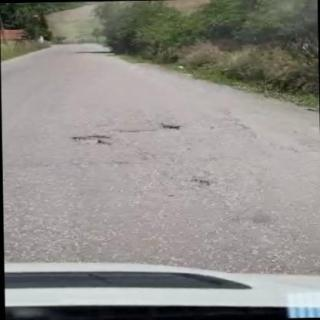pothole: (71, 135, 112, 145), (162, 124, 181, 130)
